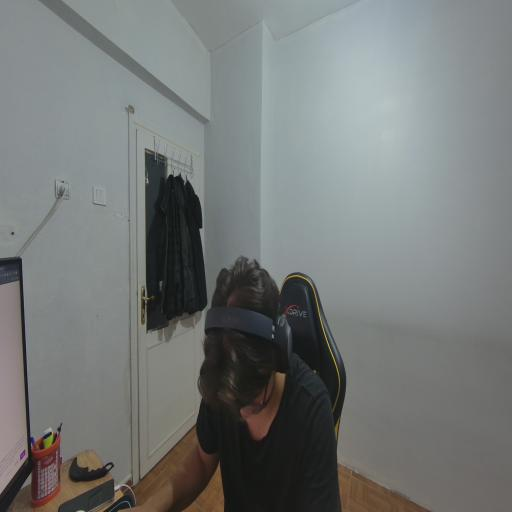cuma-face-v2: (204, 254, 289, 444)
